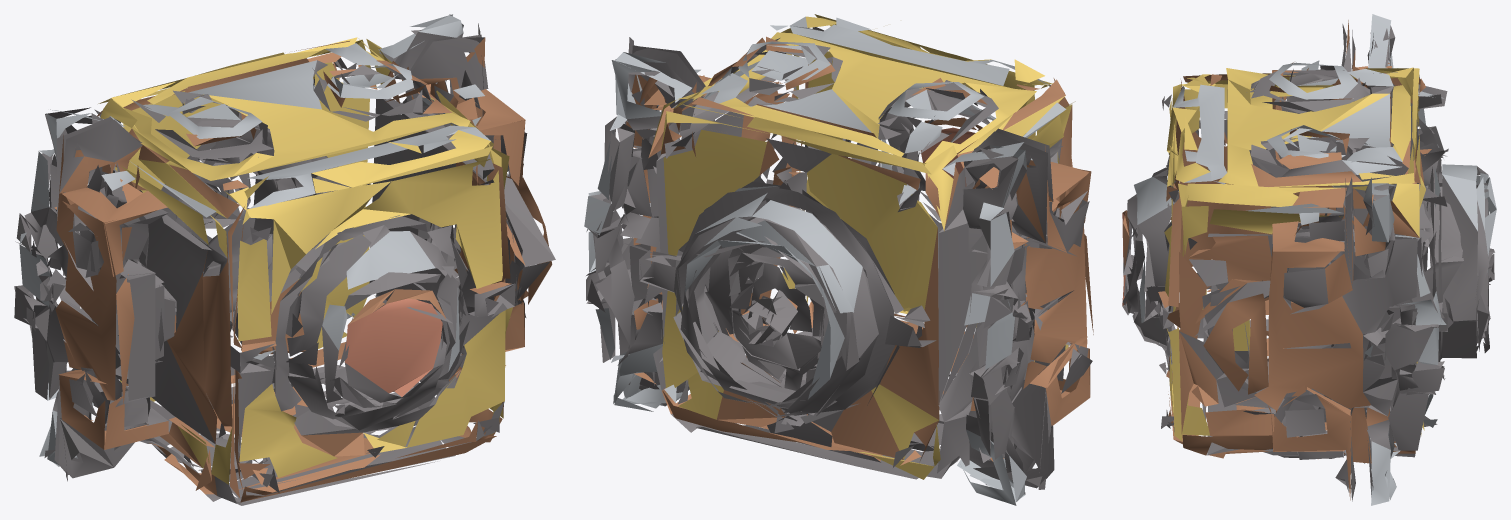
Rendered from co_slug.glb.
The picture shows the model from 3 angles, left to right: view 1: azimuth 30°, elevation 25°; view 2: azimuth 150°, elevation 25°; view 3: azimuth 270°, elevation 25°; orthographic projection. The views are drawn at different scales.
Visible parts, largest first — view 1: co_slug; view 2: co_slug; view 3: co_slug.
Part boxes in pixels (left/top/right/bottom): co_slug: left=14, top=14, right=555, bottom=505; co_slug: left=584, top=14, right=1093, bottom=505; co_slug: left=1122, top=14, right=1496, bottom=505.
Bounding box in the file's own units: 0.17 × 0.1352 × 0.1425.
